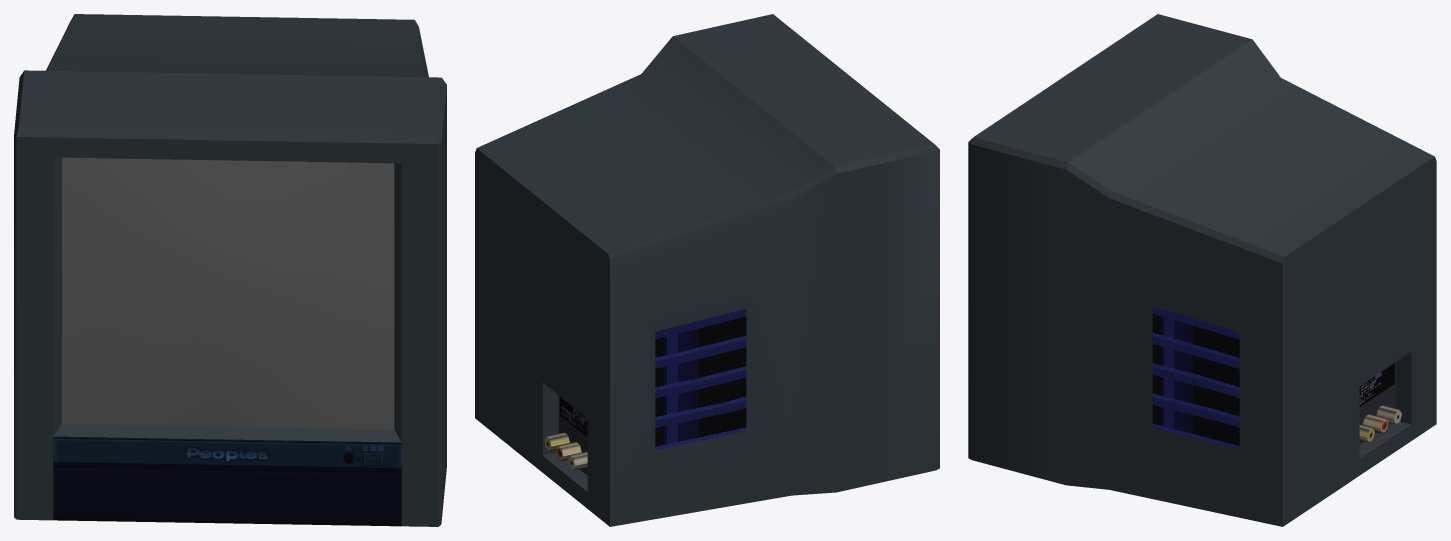
The picture shows the model from 3 angles, left to right: view 1: azimuth 30°, elevation 25°; view 2: azimuth 150°, elevation 25°; view 3: azimuth 270°, elevation 25°; orthographic projection. The views are drawn at different scales.
Parts seen in each view (by area): view 1: Joint_0_Object_1, Joint_0_Object_3, Joint_0_Object_4; view 2: Joint_0_Object_1, Joint_0_Object_2, Joint_0_Object_0; view 3: Joint_0_Object_1, Joint_0_Object_2, Joint_0_Object_0.
Boxes of the visible parts, <box> form: Joint_0_Object_1: <box>14,14,446,526</box>; Joint_0_Object_3: <box>62,157,394,429</box>; Joint_0_Object_4: <box>184,445,384,466</box>; Joint_0_Object_1: <box>475,14,939,526</box>; Joint_0_Object_2: <box>655,309,746,450</box>; Joint_0_Object_0: <box>544,432,587,470</box>; Joint_0_Object_1: <box>968,14,1436,526</box>; Joint_0_Object_2: <box>1152,306,1239,449</box>; Joint_0_Object_0: <box>1359,405,1401,442</box>.
Bounding box in the file's own units: 993 × 769 × 1016.
Materials: 3 (2 with a texture image).
